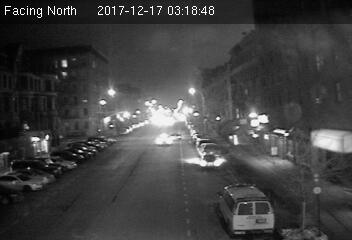car: (199, 153, 223, 171), (153, 133, 175, 148)
police: (218, 181, 275, 235)
